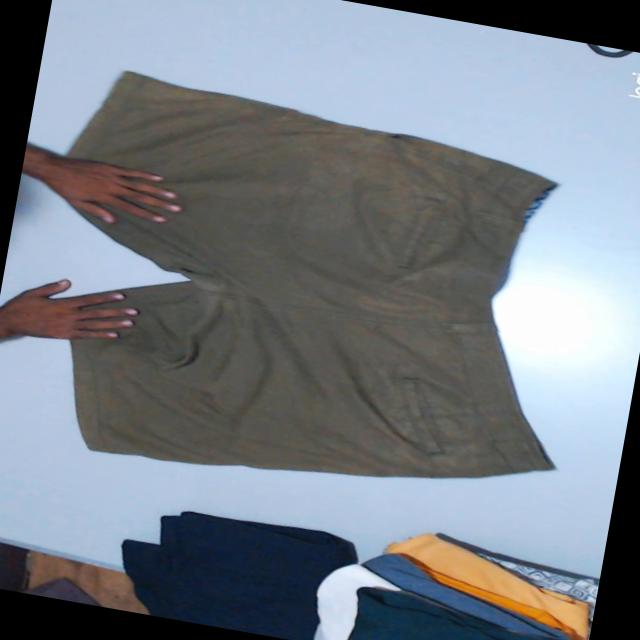new-garment: (68, 71, 554, 476)
